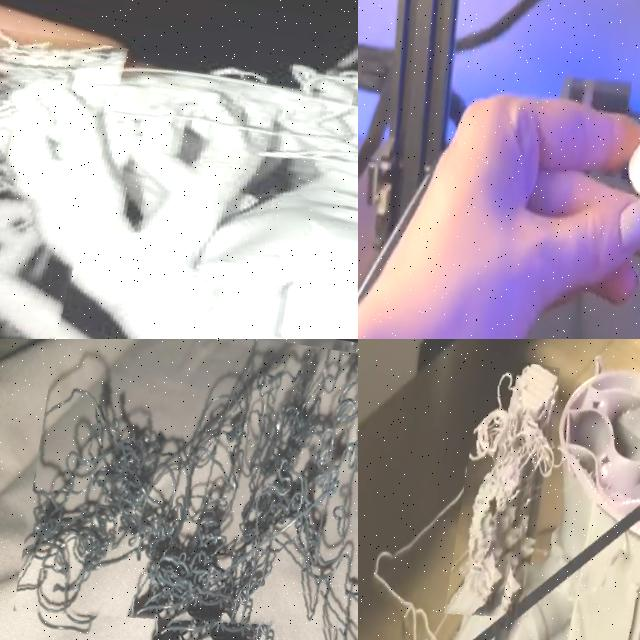spaghetti: (13, 339, 358, 640), (0, 9, 131, 339), (444, 356, 561, 628)
